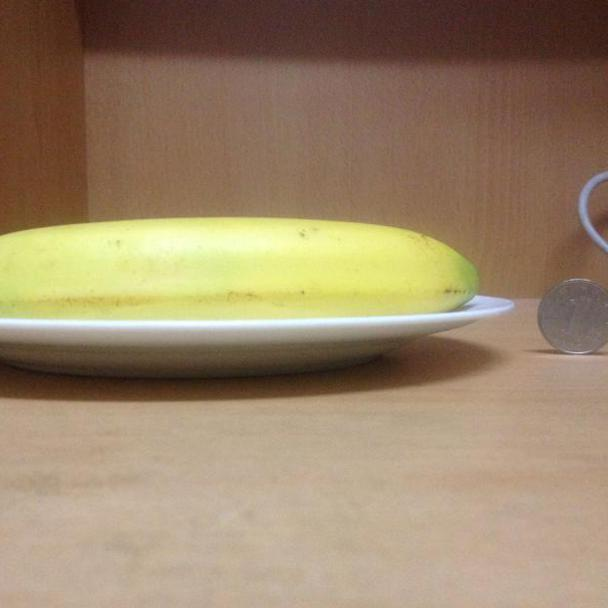banana: (1, 203, 491, 317)
